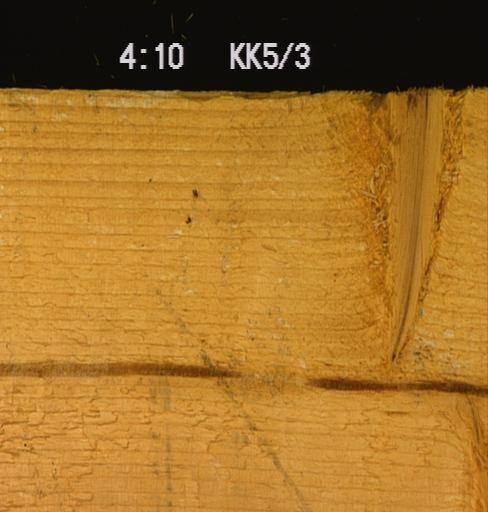wave: (175, 89, 329, 101)
